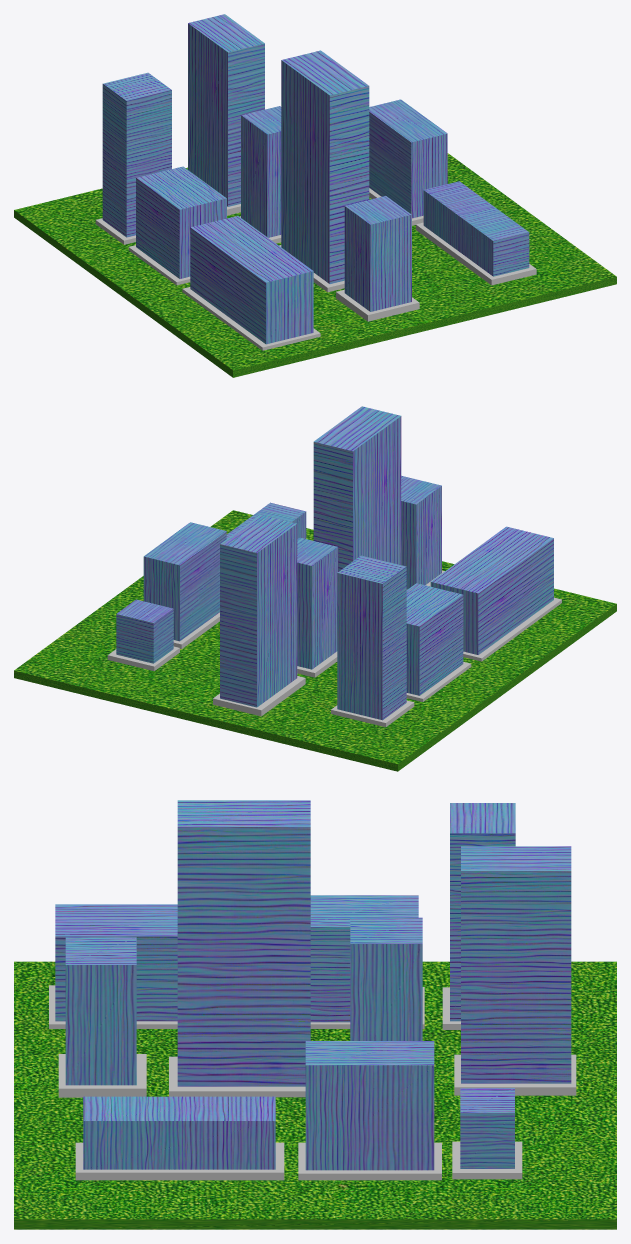
File: map_try2.gltf
3 renders of one model, top to bottom at view 1: azimuth 30°, elevation 25°; view 2: azimuth 150°, elevation 25°; view 3: azimuth 270°, elevation 25°, orthographic. The views are drawn at different scales.
Parts seen in each view (by area): view 1: sol, zone5_bat, zone1_bat, zone7_bat, zone3_bat, zone4_bat, zone9_bat, zone2_bat, zone8_bat, zone6_bat, zone8_emp, zone1_emp (+2 smaller); view 2: sol, zone7_bat, zone5_bat, zone3_bat, zone1_bat, zone9_bat, zone2_bat, zone6_bat, zone4_bat, zone10_bat, zone7_emp, zone8_bat (+4 smaller); view 3: sol, zone5_bat, zone7_bat, zone9_bat, zone8_bat, zone4_bat, zone6_bat, zone1_bat, zone2_bat, zone3_bat, zone10_bat, zone8_emp (+6 smaller).
Part boxes in pixels (left/top/right/bottom): sol: left=14, top=153, right=616, bottom=377; zone5_bat: left=281, top=50, right=369, bottom=283; zone1_bat: left=190, top=216, right=313, bottom=344; zone7_bat: left=188, top=14, right=264, bottom=206; zone3_bat: left=102, top=72, right=171, bottom=237; zone4_bat: left=344, top=196, right=411, bottom=311; zone9_bat: left=369, top=99, right=447, bottom=218; zone2_bat: left=136, top=166, right=226, bottom=278; zone8_bat: left=423, top=181, right=529, bottom=276; zone6_bat: left=241, top=106, right=281, bottom=237; zone8_emp: left=416, top=222, right=536, bottom=285; zone1_emp: left=182, top=287, right=320, bottom=350; sol: left=14, top=510, right=616, bottom=771; zone7_bat: left=220, top=514, right=297, bottom=707; zone5_bat: left=313, top=406, right=401, bottom=571; zone3_bat: left=337, top=555, right=406, bottom=720; zone1_bat: left=430, top=526, right=553, bottom=654; zone9_bat: left=143, top=522, right=226, bottom=641; zone2_bat: left=406, top=583, right=463, bottom=695; zone6_bat: left=297, top=537, right=338, bottom=669; zone4_bat: left=401, top=475, right=441, bottom=589; zone10_bat: left=116, top=599, right=173, bottom=663; zone7_emp: left=213, top=676, right=305, bottom=716; zone8_bat: left=226, top=502, right=306, bottom=538; sol: left=14, top=961, right=616, bottom=1229; zone5_bat: left=177, top=800, right=310, bottom=1086; zone7_bat: left=461, top=846, right=571, bottom=1083; zone9_bat: left=305, top=1041, right=434, bottom=1170; zone8_bat: left=83, top=1096, right=275, bottom=1169; zone4_bat: left=65, top=937, right=136, bottom=1085; zone6_bat: left=350, top=917, right=422, bottom=1040; zone1_bat: left=55, top=904, right=177, bottom=1021; zone2_bat: left=310, top=895, right=418, bottom=1022; zone3_bat: left=450, top=803, right=515, bottom=1021; zone10_bat: left=460, top=1088, right=514, bottom=1168; zone8_emp: left=75, top=1142, right=284, bottom=1180.
Bounding box in the file's own units: 1610 × 805 × 1592.
